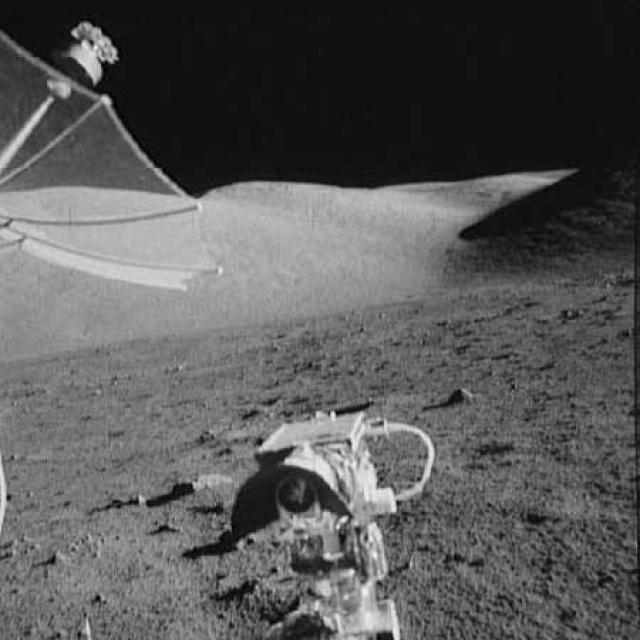artifact: (0, 4, 237, 296), (233, 400, 442, 638)
rock: (160, 463, 242, 498), (440, 373, 479, 409)
